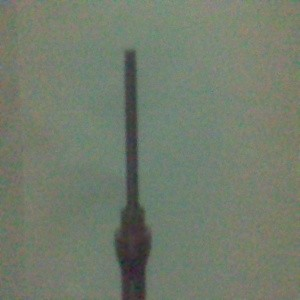obeng: (111, 48, 154, 300)
